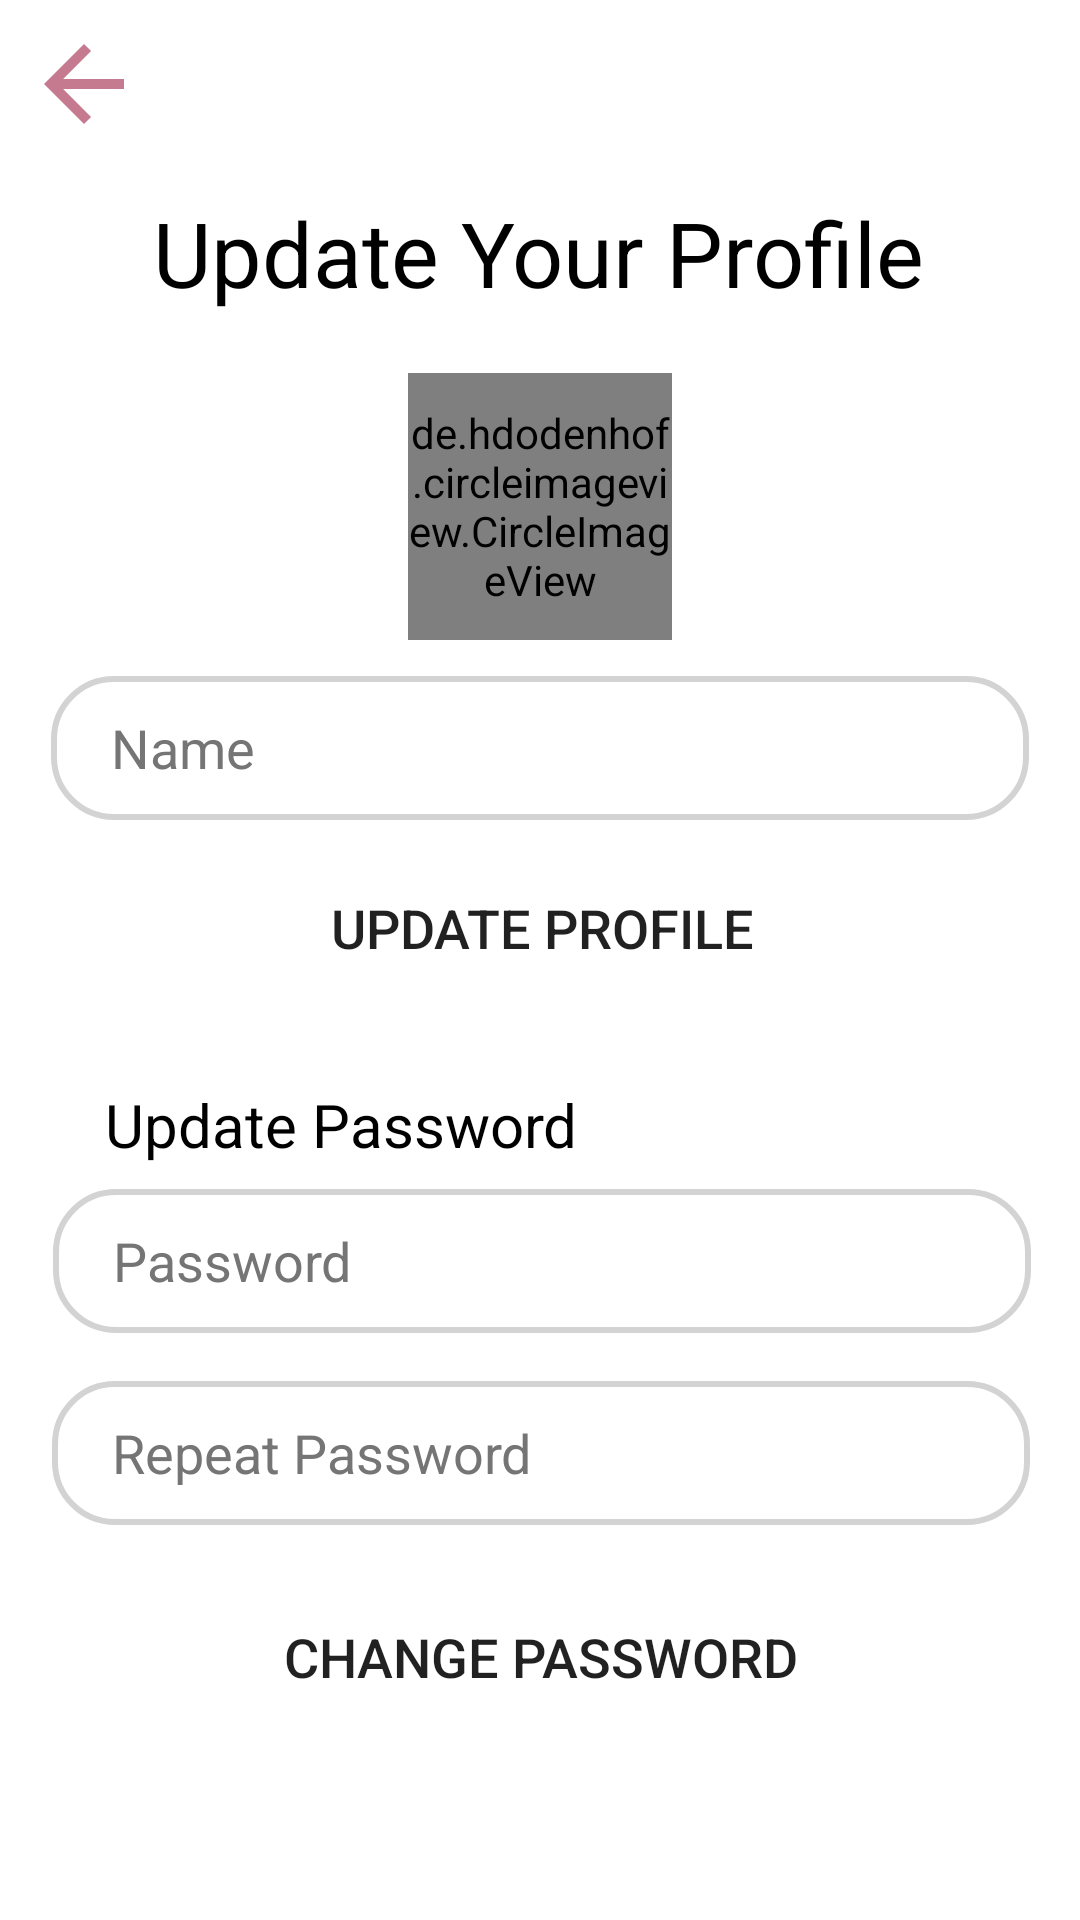

Locate icon controls on the screen. Image size 1080w x 1920h, boxes as [x1, y1, x2, y2].
arrow back: [44, 44, 124, 124]
